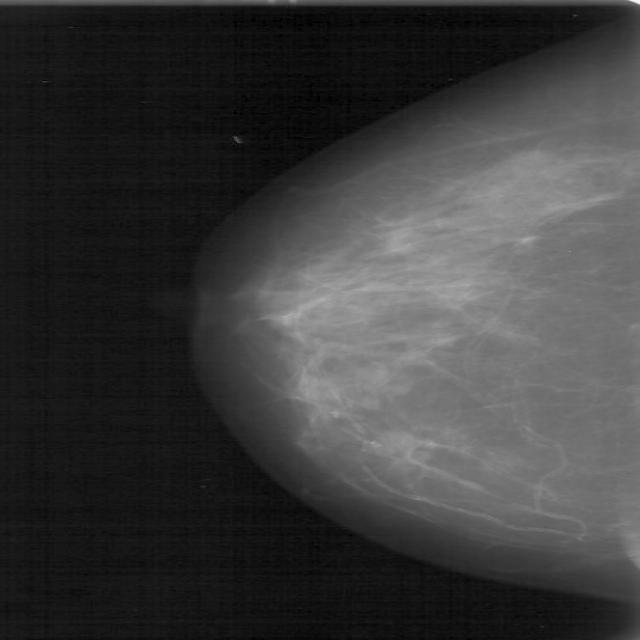tumour: (359, 431, 428, 468)
